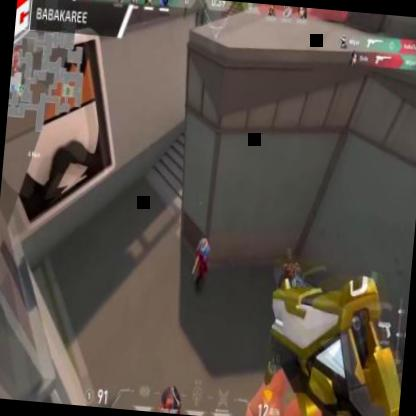enemy: (275, 257, 301, 317), (190, 236, 212, 292), (158, 384, 184, 414)
enemy_head: (165, 388, 174, 406), (290, 261, 300, 275), (200, 237, 208, 250)
